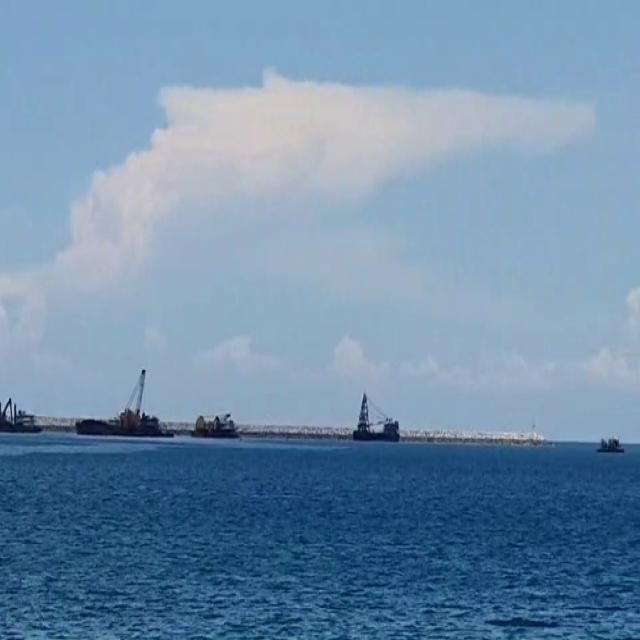civilianship: (71, 377, 182, 460), (347, 393, 409, 456), (192, 384, 238, 454), (2, 377, 48, 439), (602, 431, 628, 476)
